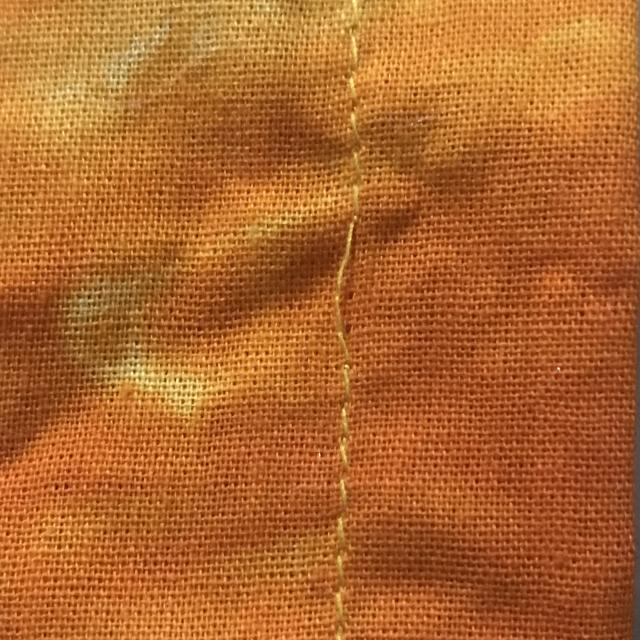Skip: (291, 180, 384, 373)
